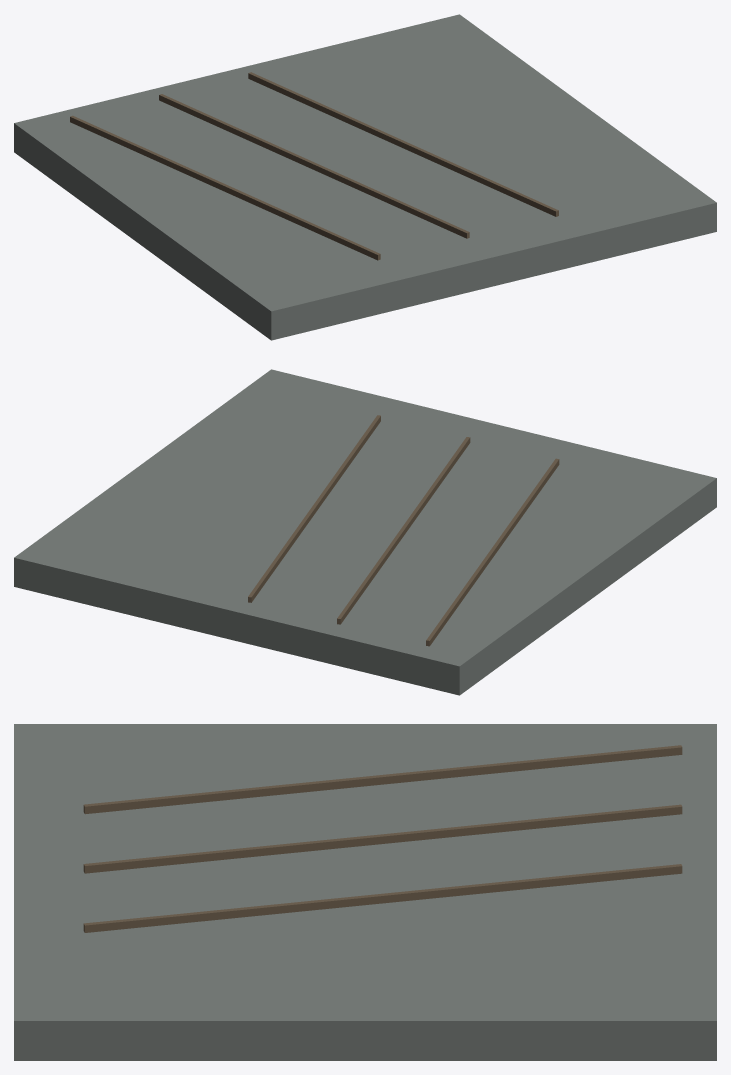
The model's file is terrain-rock-flat.lod0.glb.
3 views of the same model, one above another, from view 1: azimuth 30°, elevation 25°; view 2: azimuth 150°, elevation 25°; view 3: azimuth 270°, elevation 25° (orthographic). The views are drawn at different scales.
Parts seen in each view (by area): view 1: terrain-rock-flat__body; view 2: terrain-rock-flat__body; view 3: terrain-rock-flat__body.
Part boxes in pixels (x1,y1,x2,y2): terrain-rock-flat__body: (14, 14, 716, 340); terrain-rock-flat__body: (14, 369, 716, 695); terrain-rock-flat__body: (14, 724, 716, 1060).
Bounding box in the file's own units: 2 × 0.1485 × 2.
